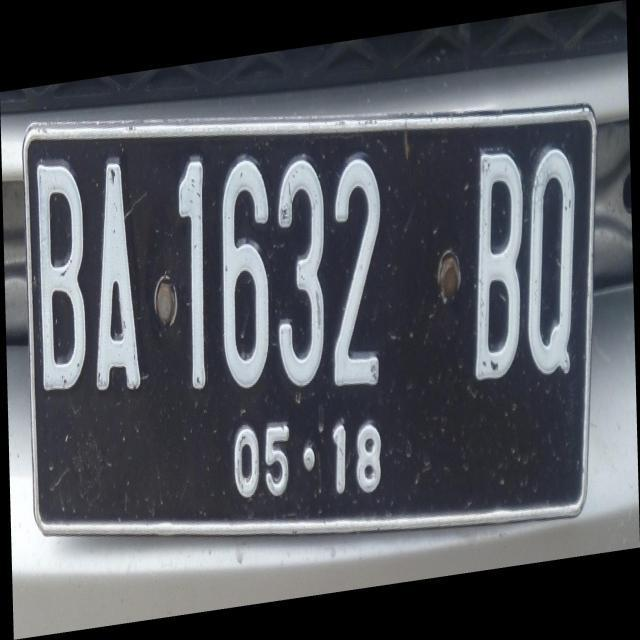1: (178, 154, 208, 396)
2: (332, 152, 384, 396)
3: (274, 152, 330, 394)
6: (217, 150, 271, 398)
A: (90, 152, 143, 400)
B: (472, 143, 526, 392), (35, 154, 88, 396)
Q: (526, 139, 576, 391)
